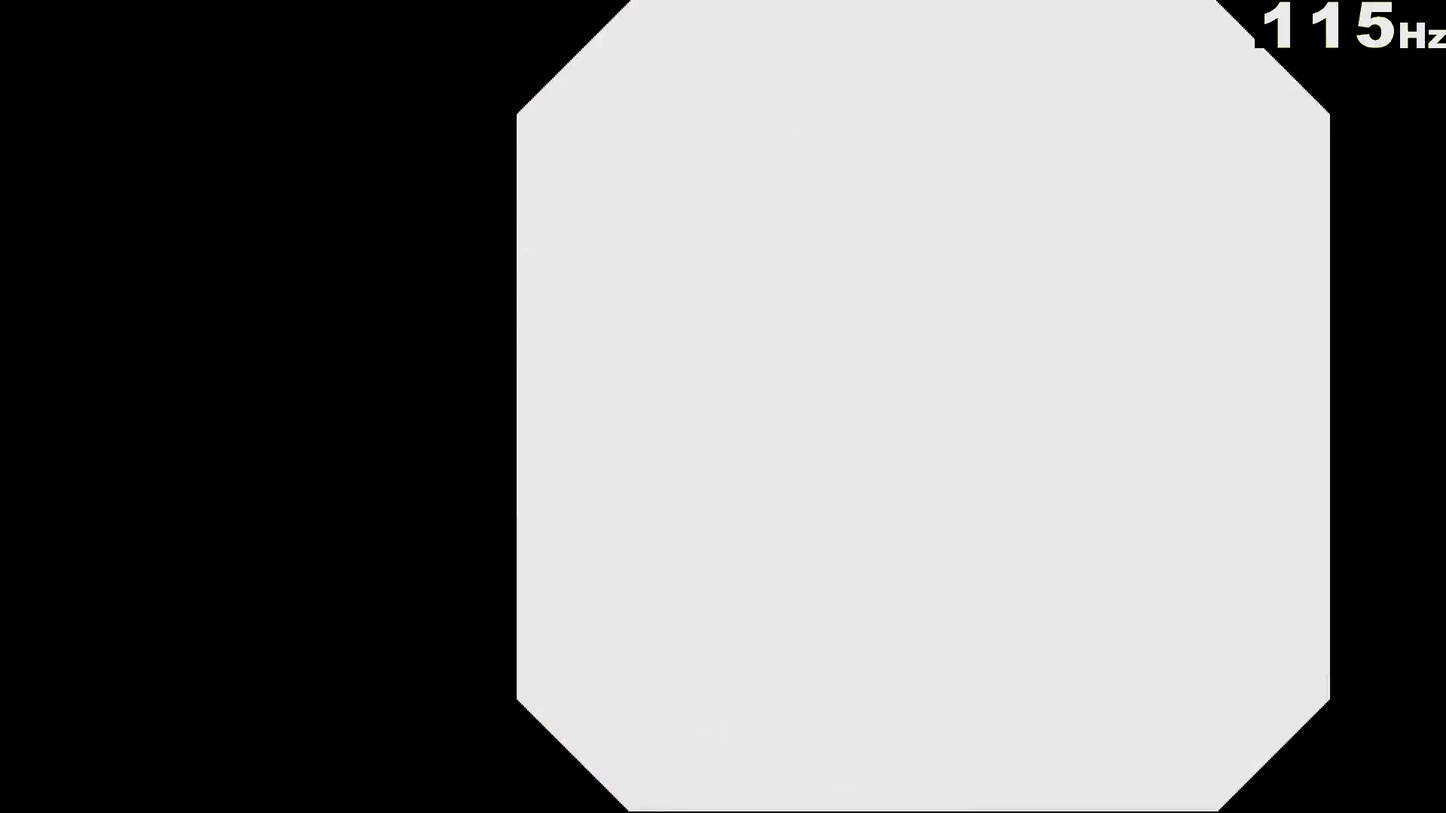epiglottis: (679, 376, 1318, 614)
